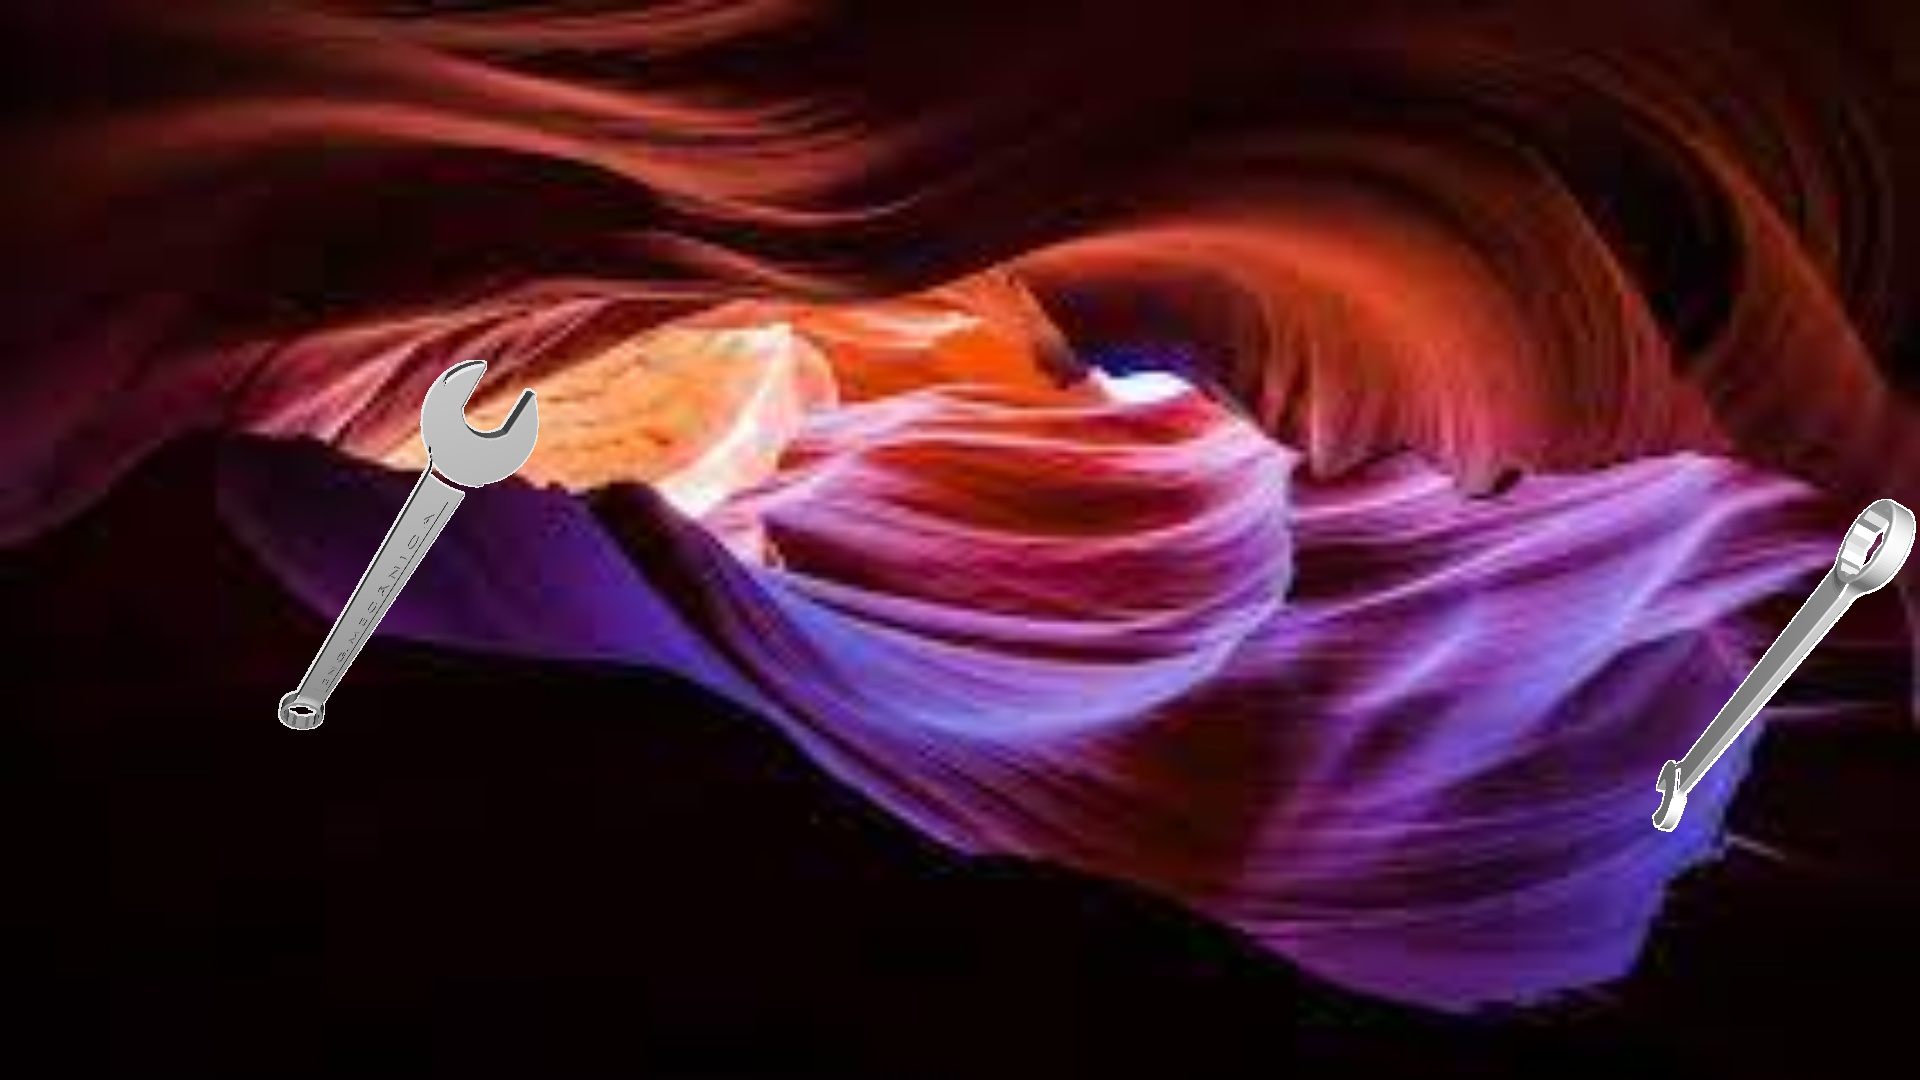Mixed Key: (278, 360, 538, 729), (1652, 498, 1915, 831)
